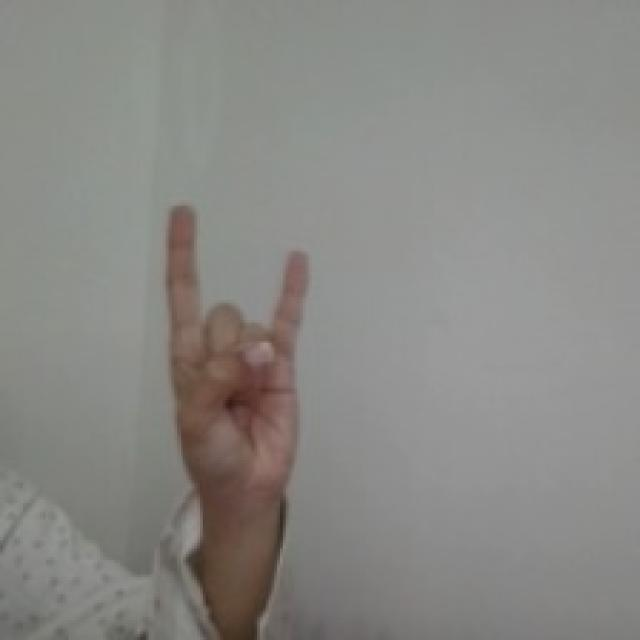No: (155, 197, 316, 522)
